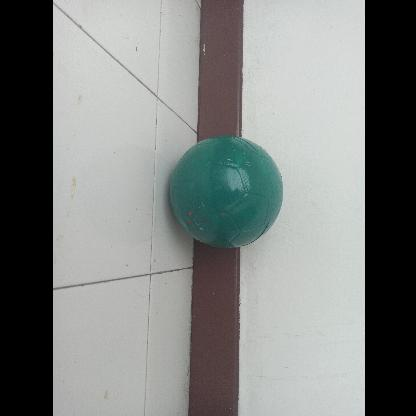green_ball: (170, 136, 284, 250)
